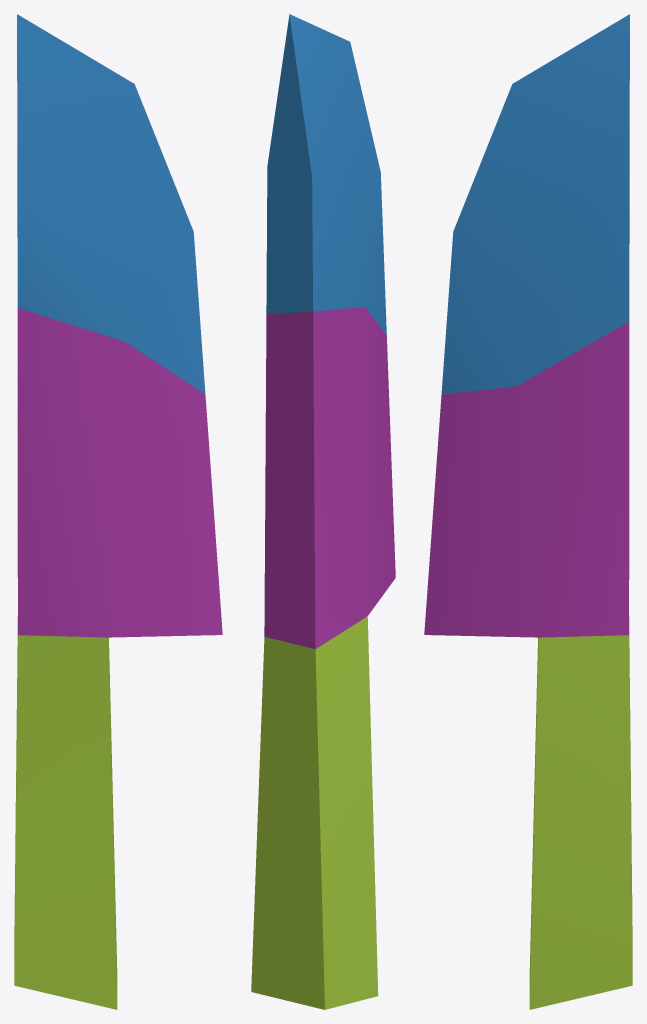
The model's file is knive.fbx.
The picture shows the model from 3 angles, left to right: view 1: azimuth 90°, elevation 25°; view 2: azimuth 150°, elevation 25°; view 3: azimuth 270°, elevation 25°; orthographic projection. The views are drawn at different scales.
Parts seen in each view (by area): view 1: w_knife; view 2: w_knife; view 3: w_knife.
Part boxes in pixels (x1,y1,x2,y2): w_knife: (14,14,222,1009); w_knife: (251,14,395,1009); w_knife: (424,14,632,1009).
Size of the model in its own units: 6.89 by 90.17 by 17.41.
